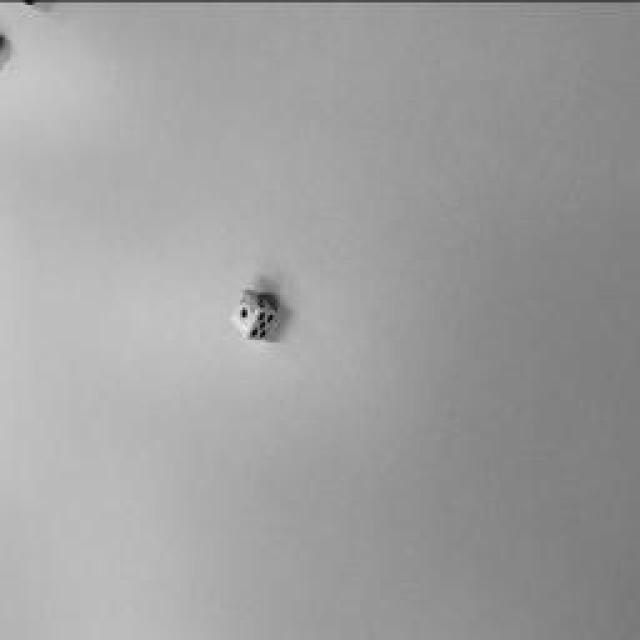dice_1: (230, 289, 260, 336)
